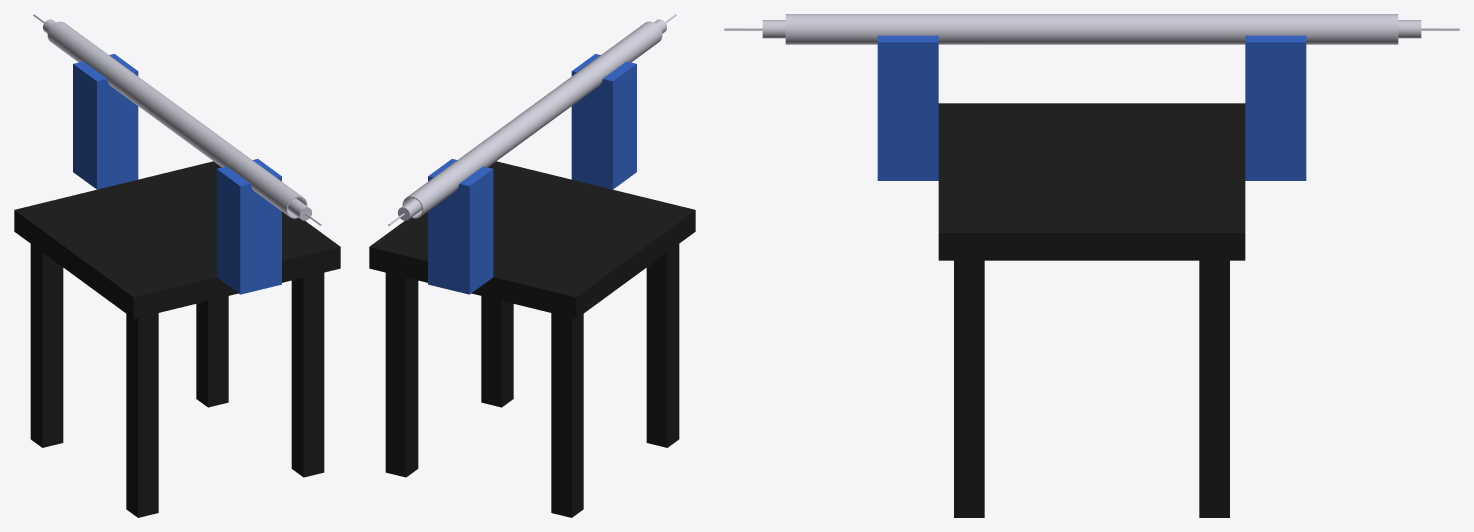
The model's file is single_tube_stand.gltf.
The picture shows the model from 3 angles, left to right: view 1: azimuth 30°, elevation 25°; view 2: azimuth 150°, elevation 25°; view 3: azimuth 270°, elevation 25°; orthographic projection. The views are drawn at different scales.
Visible parts, largest first — view 1: Optical_Table, Orbitron_3_5_MW_Tube, Mount_Aft, Mount_Forward; view 2: Optical_Table, Orbitron_3_5_MW_Tube, Mount_Forward, Mount_Aft; view 3: Optical_Table, Orbitron_3_5_MW_Tube, Mount_Forward, Mount_Aft.
Boxes of the visible parts, x1,y1,x2,y2 form: Optical_Table: [14, 161, 340, 517]; Orbitron_3_5_MW_Tube: [33, 14, 321, 225]; Mount_Aft: [216, 159, 281, 294]; Mount_Forward: [73, 54, 138, 189]; Optical_Table: [369, 161, 695, 517]; Orbitron_3_5_MW_Tube: [388, 14, 676, 225]; Mount_Forward: [428, 159, 493, 294]; Mount_Aft: [571, 54, 636, 189]; Optical_Table: [938, 103, 1245, 517]; Orbitron_3_5_MW_Tube: [724, 14, 1459, 44]; Mount_Forward: [1245, 35, 1306, 180]; Mount_Aft: [877, 35, 938, 180].
Size of the model in its own units: 1 by 1.6 by 2.4.
